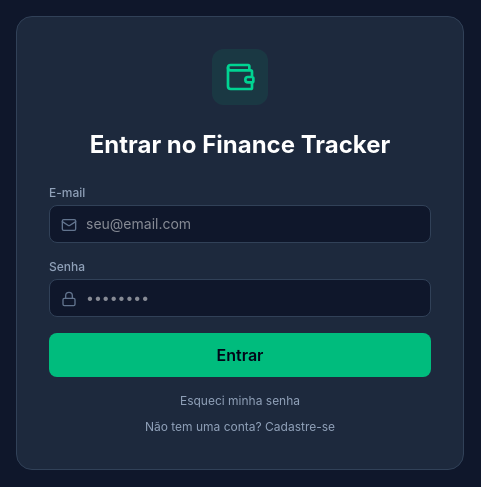
Test case: Recuperação de senha › abre o formulário de recuperação pelo link "Esqueci minha senha"
What coordinates should you click on to do the following:
click the button "Esqueci minha senha"
I would click on:
 (240, 401)
Its box is [49,393,431,409].
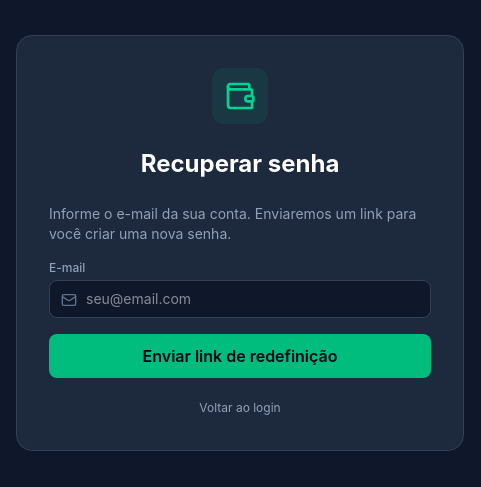
Check: the field labelled "E-mail" is shown, box [49,280,431,318]
Check: the button "Enviar link de redefinição" is shown, box [49,334,431,378]
